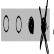correct: (28, 14, 35, 36)
not correct: (38, 0, 50, 54)
